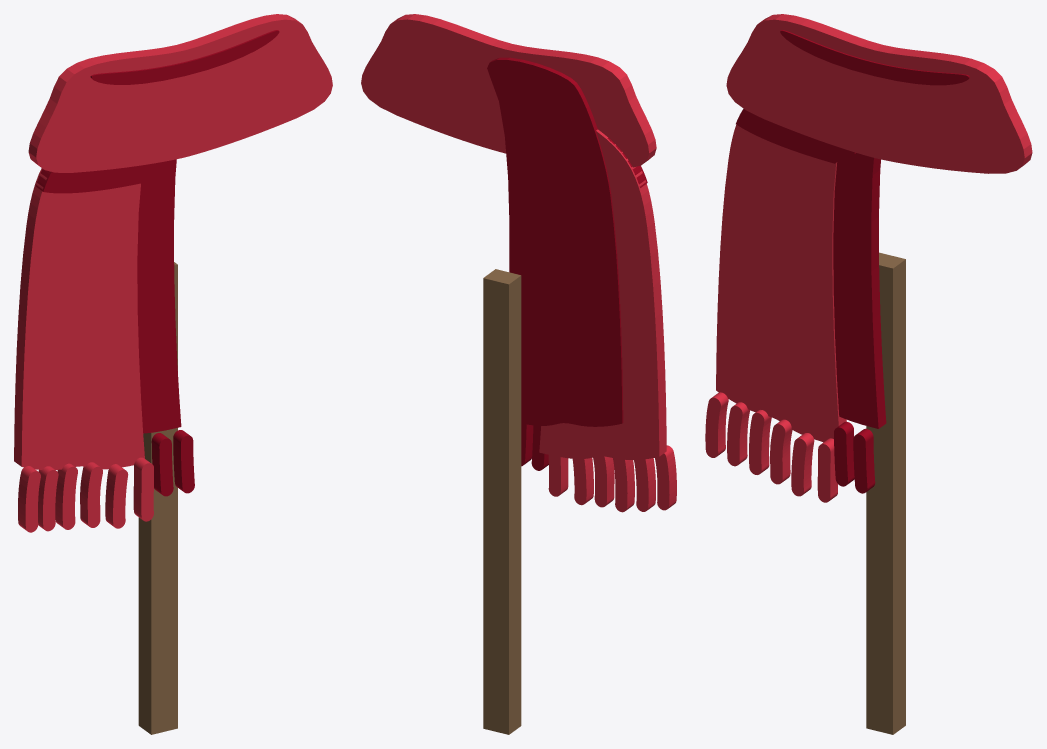
File: echarpe.glb
3 renders of one model, left to right at view 1: azimuth 30°, elevation 25°; view 2: azimuth 150°, elevation 25°; view 3: azimuth 330°, elevation 25°, orthographic. The views are drawn at different scales.
Bounding box in the file's own units: 0.7049 × 1.5 × 0.133.
